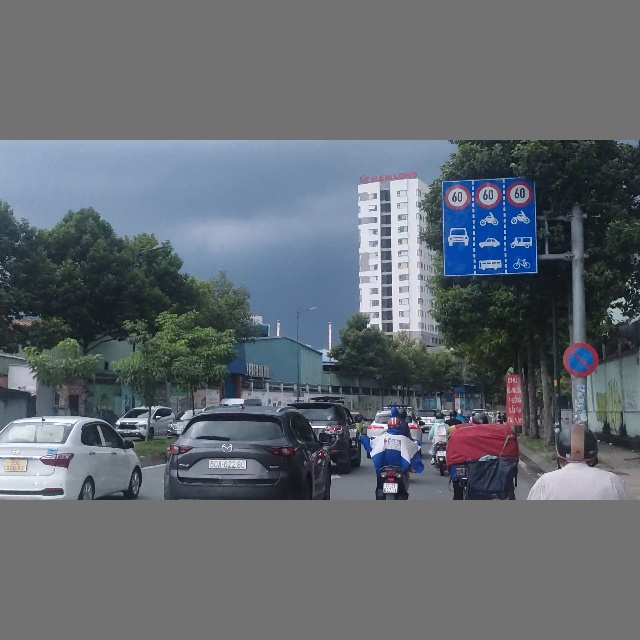P.127*60: (444, 185, 470, 210), (475, 183, 501, 208), (507, 181, 533, 206)
P.131a: (563, 343, 599, 376)
R.415a: (443, 208, 536, 274)
